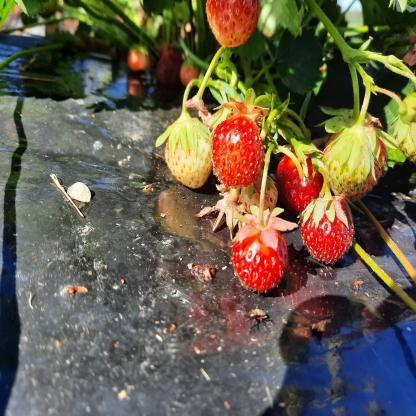ripe: (216, 118, 270, 189), (303, 198, 350, 254), (235, 226, 279, 283), (278, 152, 320, 206), (213, 0, 255, 48)
unripe: (328, 124, 378, 193), (164, 122, 212, 186)
